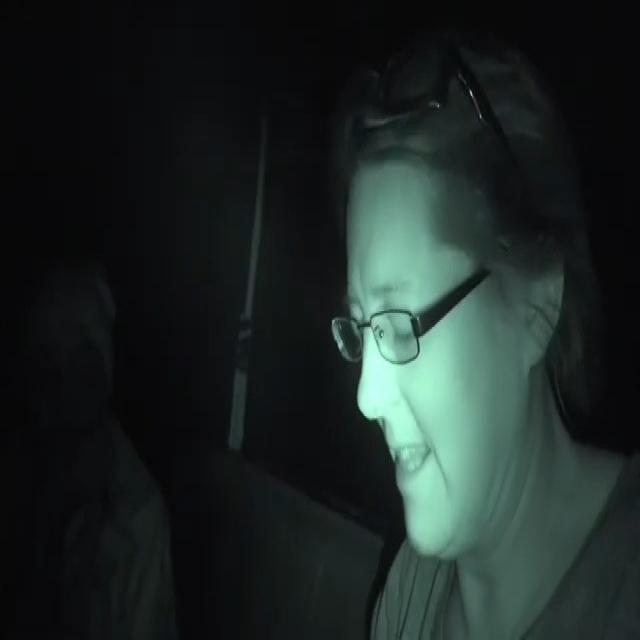human: (294, 22, 640, 619)
